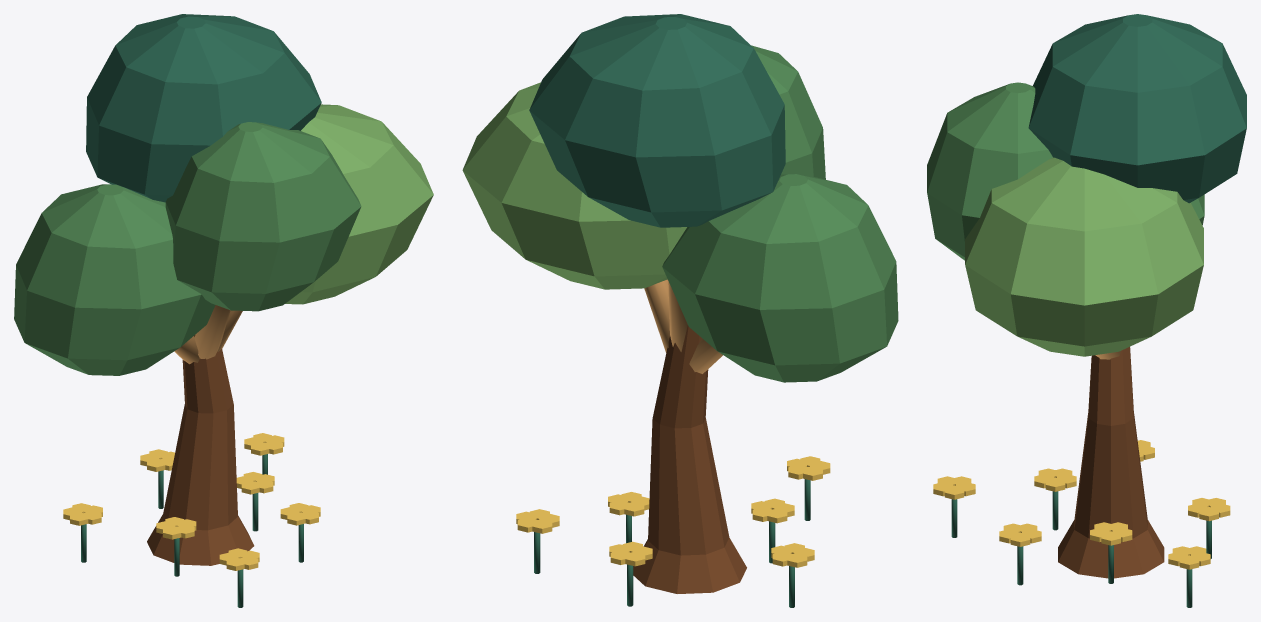
File: meadow-copse.glb
3 views of the same model, side by side, from view 1: azimuth 30°, elevation 25°; view 2: azimuth 150°, elevation 25°; view 3: azimuth 270°, elevation 25° (orthographic). The views are drawn at different scales.
Parts seen in each view (by area): view 1: Structure; view 2: Structure; view 3: Structure.
Part boxes in pixels (x1,y1,x2,y2): Structure: (14,14,433,607); Structure: (462,14,898,607); Structure: (927,14,1246,607).
Size of the model in its own units: 3.52 by 4.45 by 2.41.
